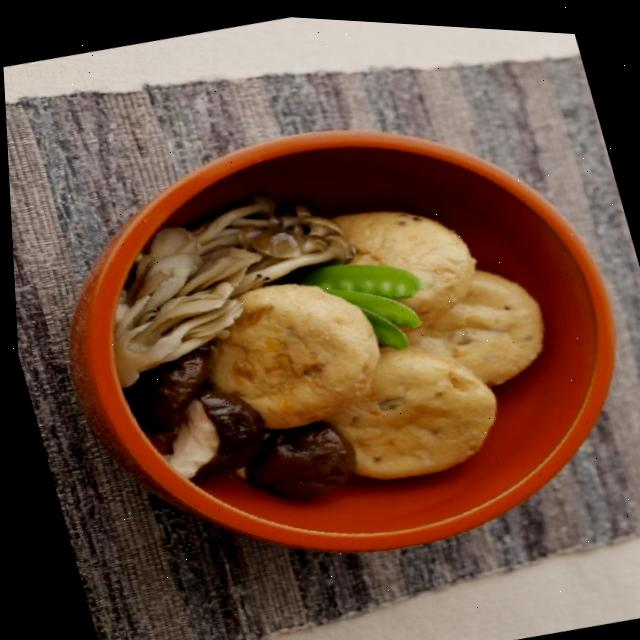熟制海鲜: (18, 56, 640, 610)
